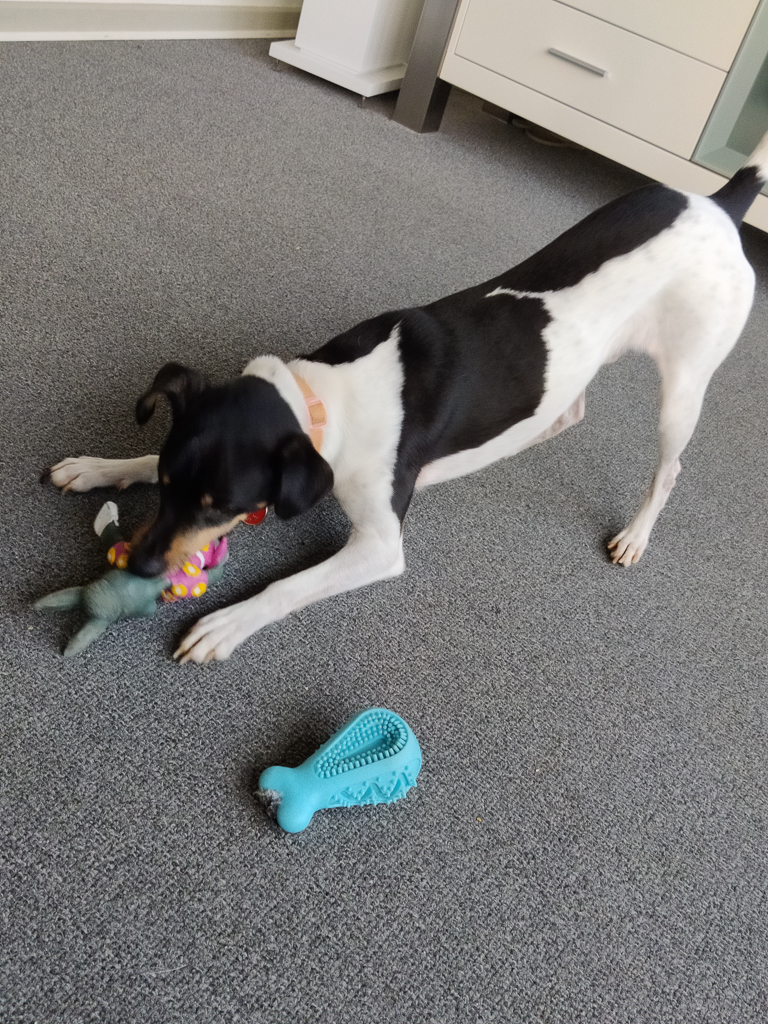Dog: (33, 121, 768, 719)
Humanoid: (28, 494, 239, 666)
